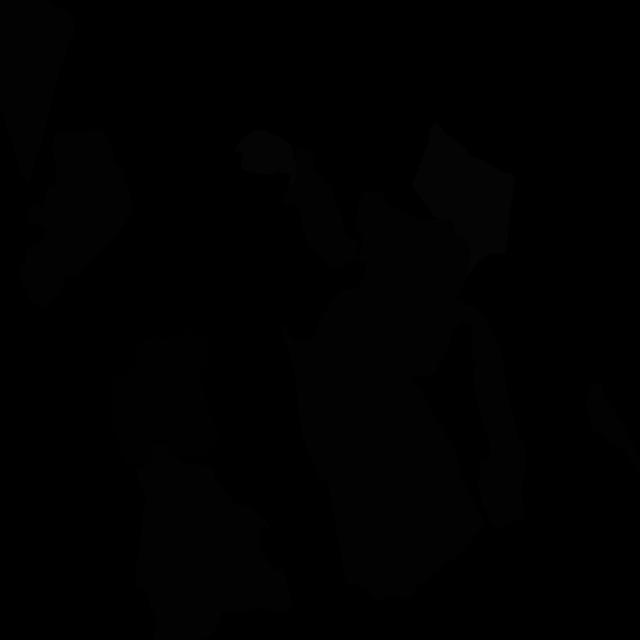cardboard: (280, 287, 487, 599), (135, 442, 294, 640), (355, 190, 470, 377), (18, 129, 133, 307), (459, 305, 526, 528), (280, 145, 360, 267), (586, 383, 640, 475)
rigid_plastic: (110, 328, 219, 468)
soft_plastic: (412, 123, 515, 276), (235, 129, 297, 185)
